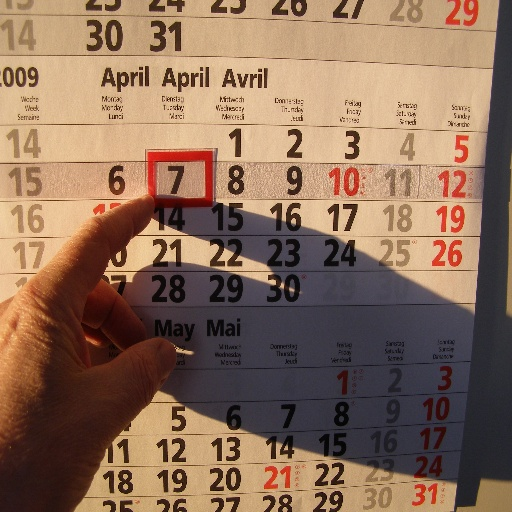hand: (0, 193, 192, 511)
